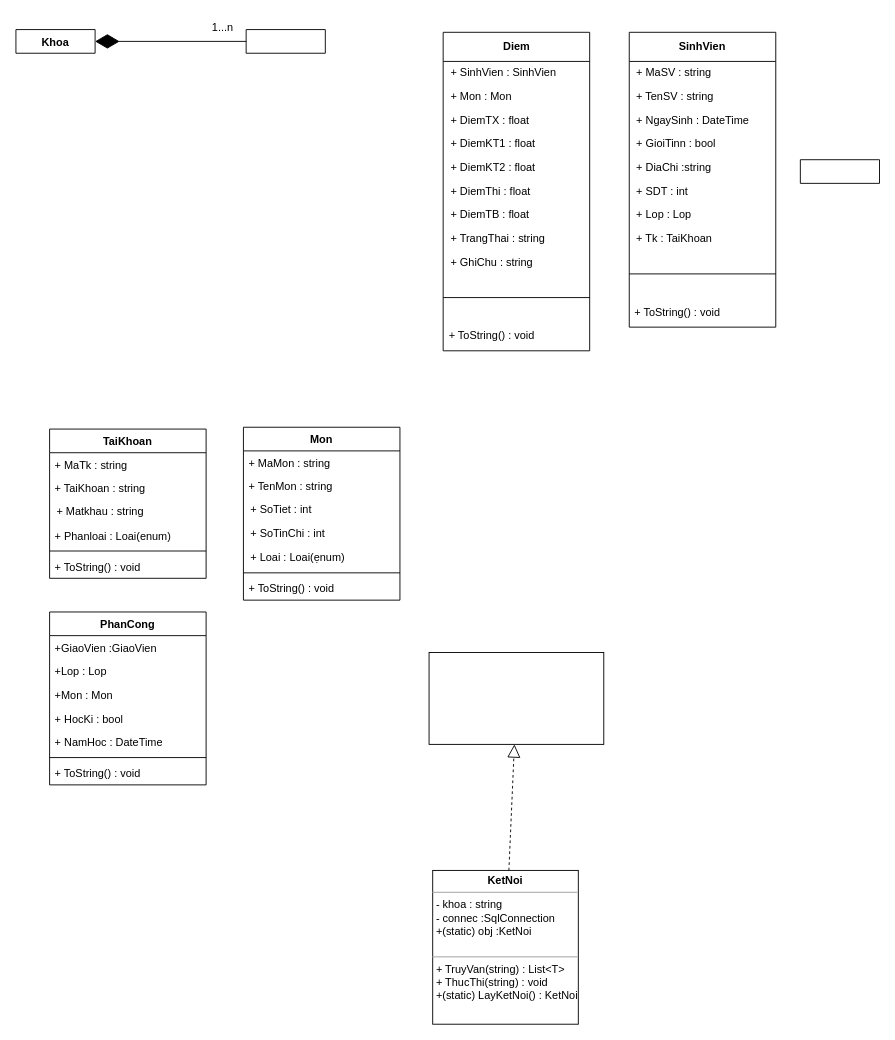
Image size: 895x1040. Some labels were removed from this diagram. Each missing label, with the centre of its shape:
"<<Interface>> IKetNoi + TruyVan(string) : List<T> + ThucThi(string): void" belongs at pixel 516 698.
"GiaoVien" belongs at pixel 839 171.
"Lop" belongs at pixel 285 41.
